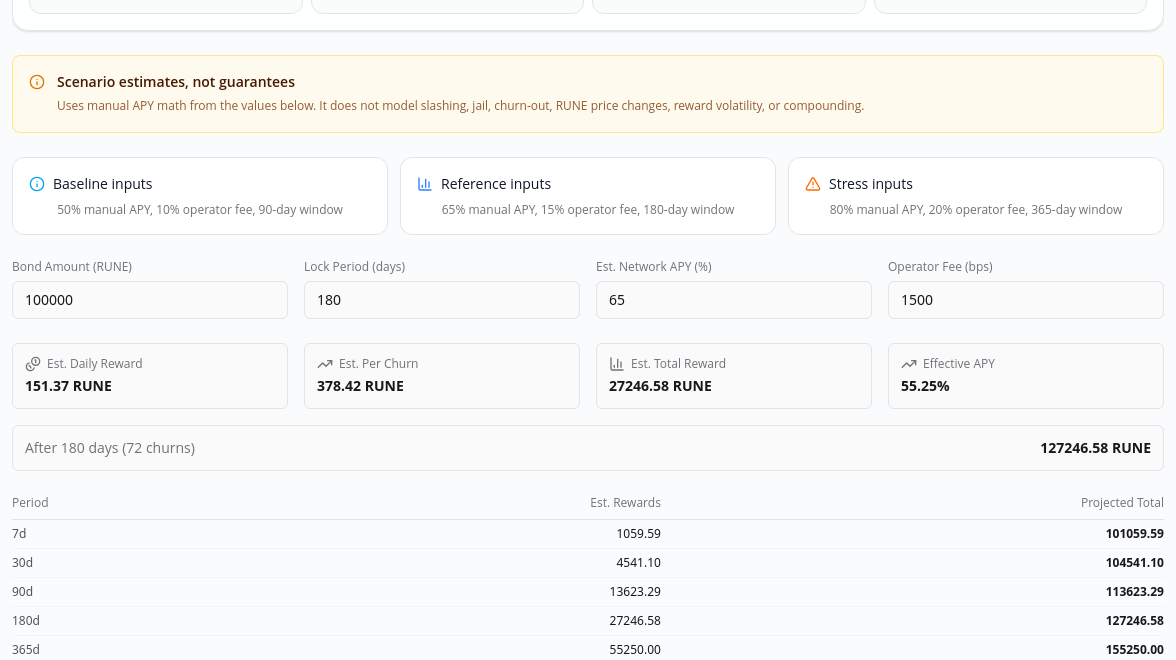
Test case: BondSimulator trust copy › treats a blank operator fee field as missing input without turning it into zero fee
(page scrolled)
Clear the number field labelled "Operator Fee (bps)" at (1026, 300), box [888,281,1164,319]
(page scrolled)
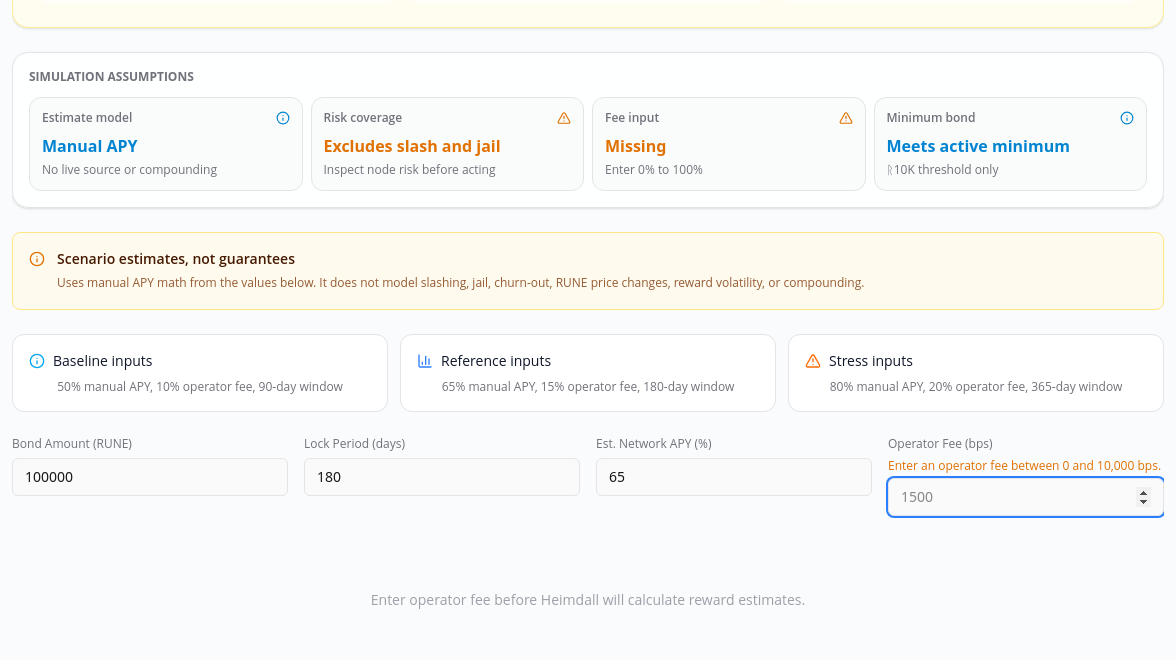
Check: the text "Missing" is shown, box [605,135,666,157]
Check: the text "Enter 0% to 100%" is shown, box [605,161,703,178]
Check: the text "Enter an operator fee between 0 and 10,000 bps." is shown, box [888,458,1164,474]
Type "0" into the number field labelled "Operator Fee (bps)" at (1026, 497), box [888,478,1164,516]
(page scrolled)
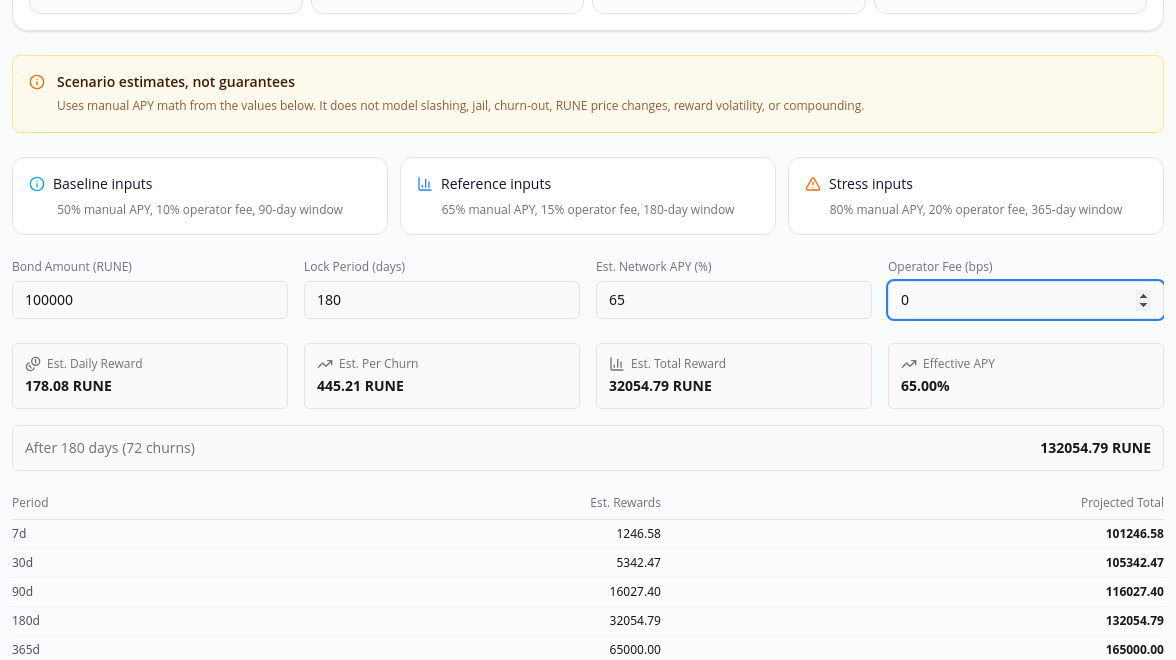
Check: the text "Est. Daily Reward" is shown, box [47,356,142,372]
Check: the text "Enter operator fee before Heimdall will calculate reward estimates." is gone
